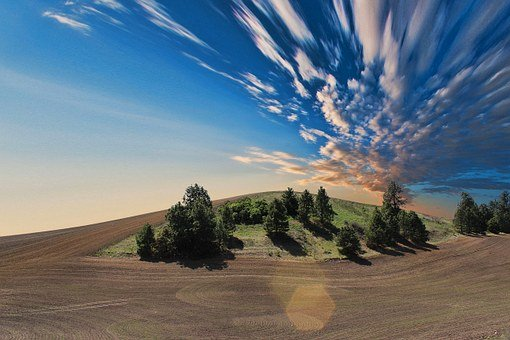ground: (3, 218, 509, 340)
sky: (2, 2, 510, 215)
tree: (139, 180, 237, 271), (258, 176, 361, 255), (451, 183, 509, 252), (370, 184, 428, 253)
